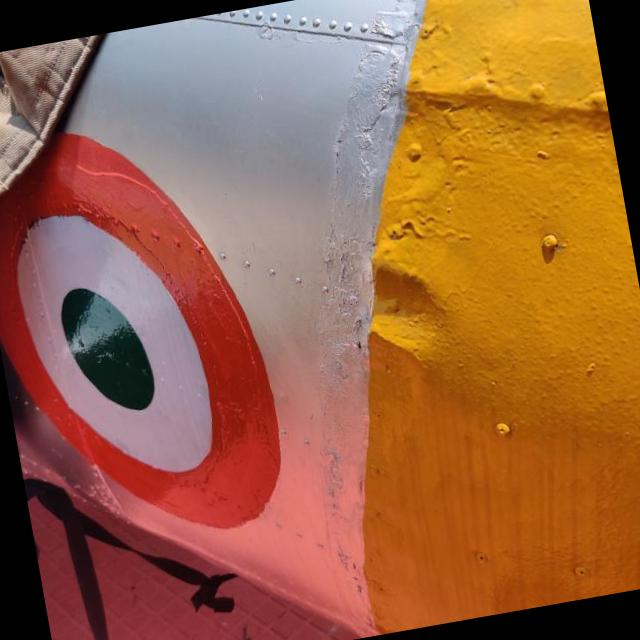Dent: (372, 234, 468, 370)
